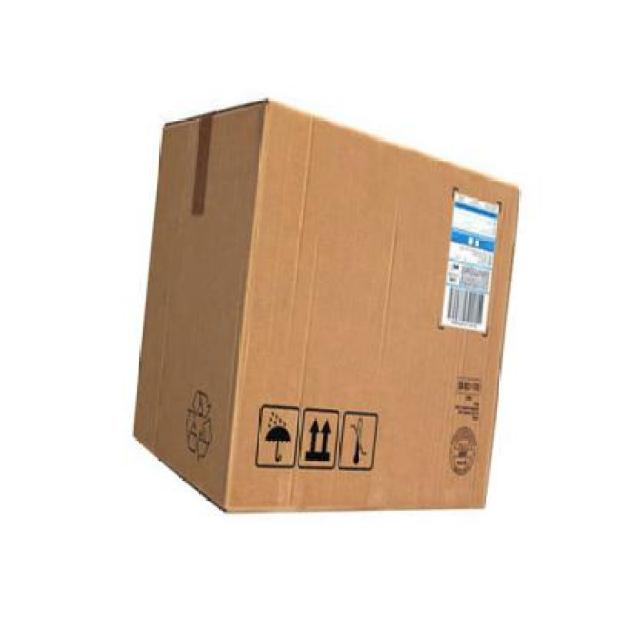cardboxes: (135, 96, 519, 516)
